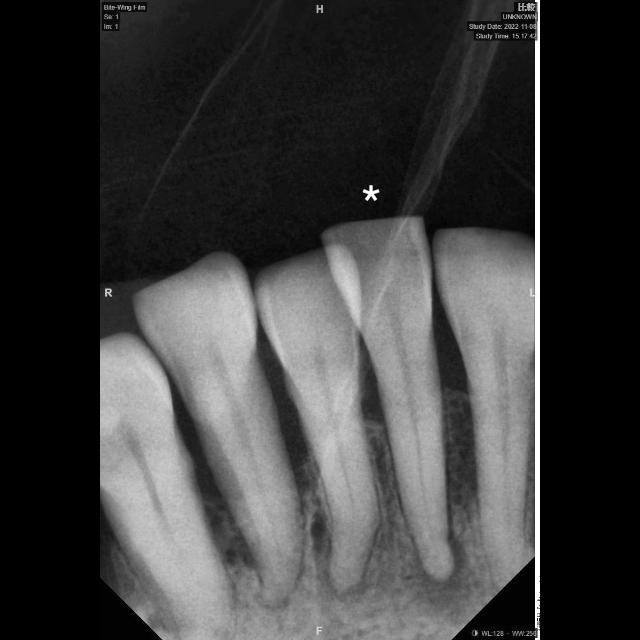test-segment: (323, 217, 453, 579)
